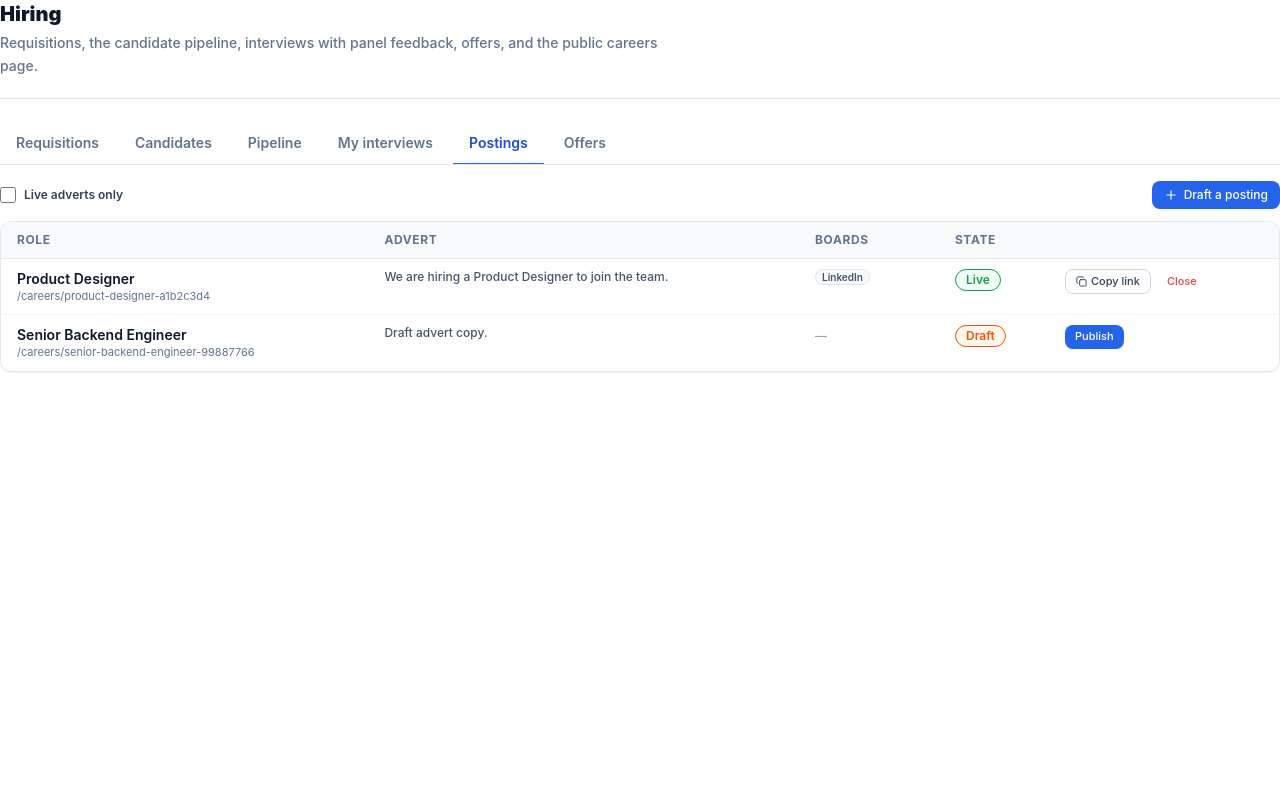
it: postings › confirms before closing, and says that closing is final
Click the button "Close" at x=1182, y=281, box [1157,268,1207,294]
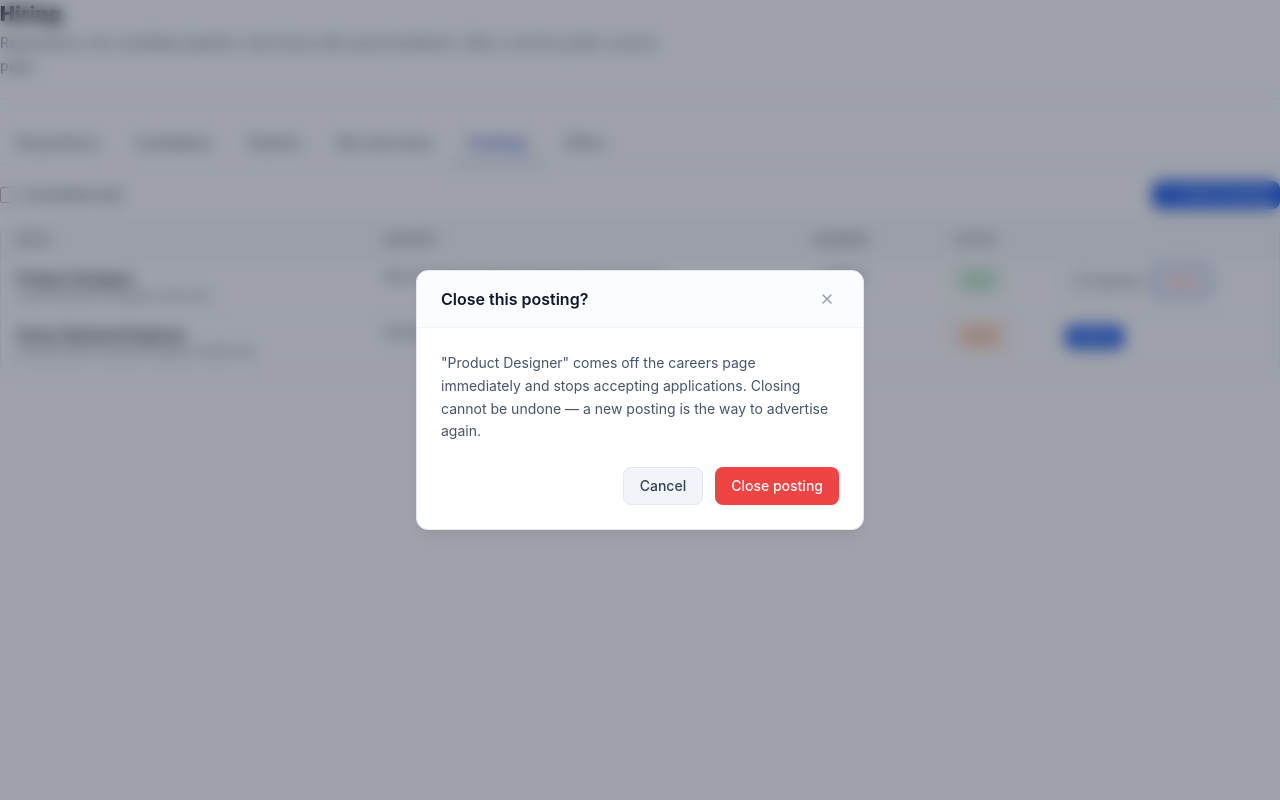
Now the text "cannot be undone" is shown, box [441,354,828,439]
